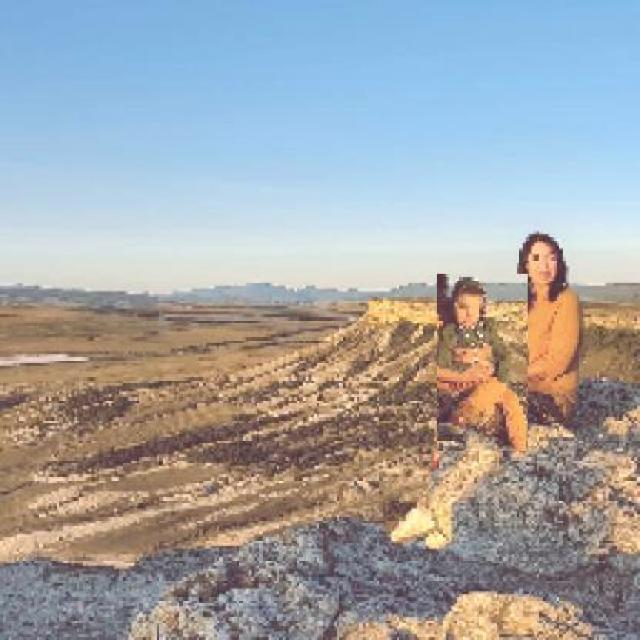child: (435, 274, 528, 452)
